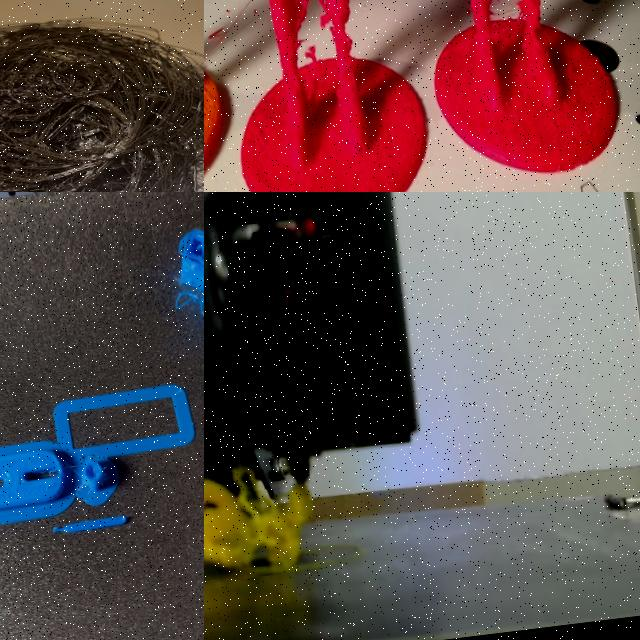spaghetti: (0, 22, 204, 192), (204, 455, 321, 586), (124, 192, 204, 342), (274, 0, 364, 111), (469, 0, 556, 61)
